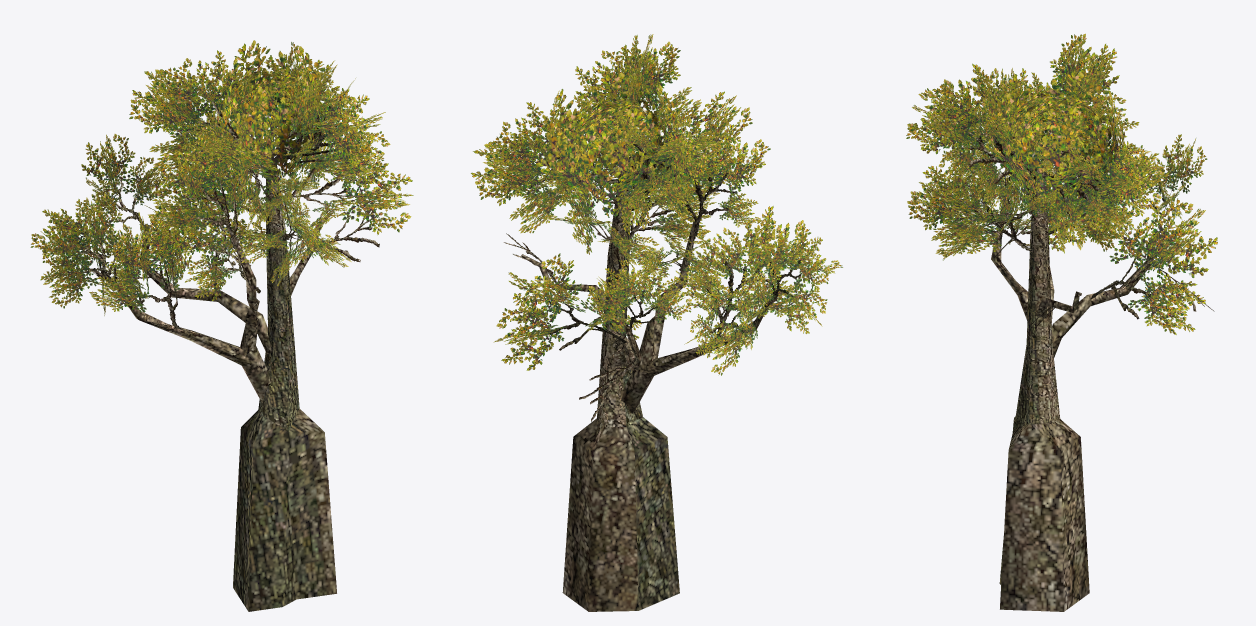
Rendered from roble_otono_b.glb.
The picture shows the model from 3 angles, left to right: view 1: azimuth 30°, elevation 25°; view 2: azimuth 150°, elevation 25°; view 3: azimuth 270°, elevation 25°; orthographic projection. The views are drawn at different scales.
Visible parts, largest first — view 1: Copa, Tronco; view 2: Copa, Tronco; view 3: Copa, Tronco.
Part boxes in pixels (x1=…): Copa: x1=30, y1=40, x2=413, y2=315; Tronco: x1=73, y1=91, x2=379, y2=611; Copa: x1=471, y1=34, x2=842, y2=375; Tronco: x1=503, y1=89, x2=800, y2=611; Copa: x1=906, y1=33, x2=1217, y2=334; Tronco: x1=955, y1=95, x2=1214, y2=611.
Bounding box in the file's own units: 9.45 × 13.47 × 8.15.
2 materials, 2 textured.
